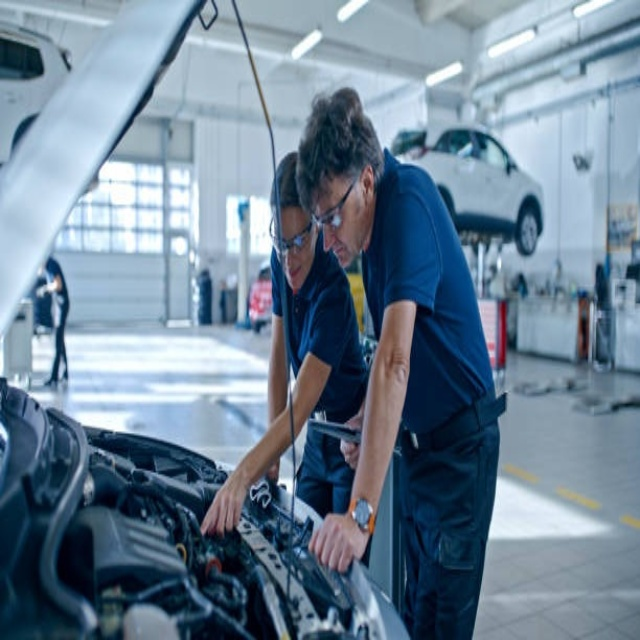Gafas: (309, 172, 360, 232), (271, 205, 315, 257)
Sin_guantes: (199, 468, 252, 539), (308, 511, 366, 573), (338, 422, 363, 470)
Sin_mascara: (325, 240, 350, 273), (281, 262, 304, 288)
